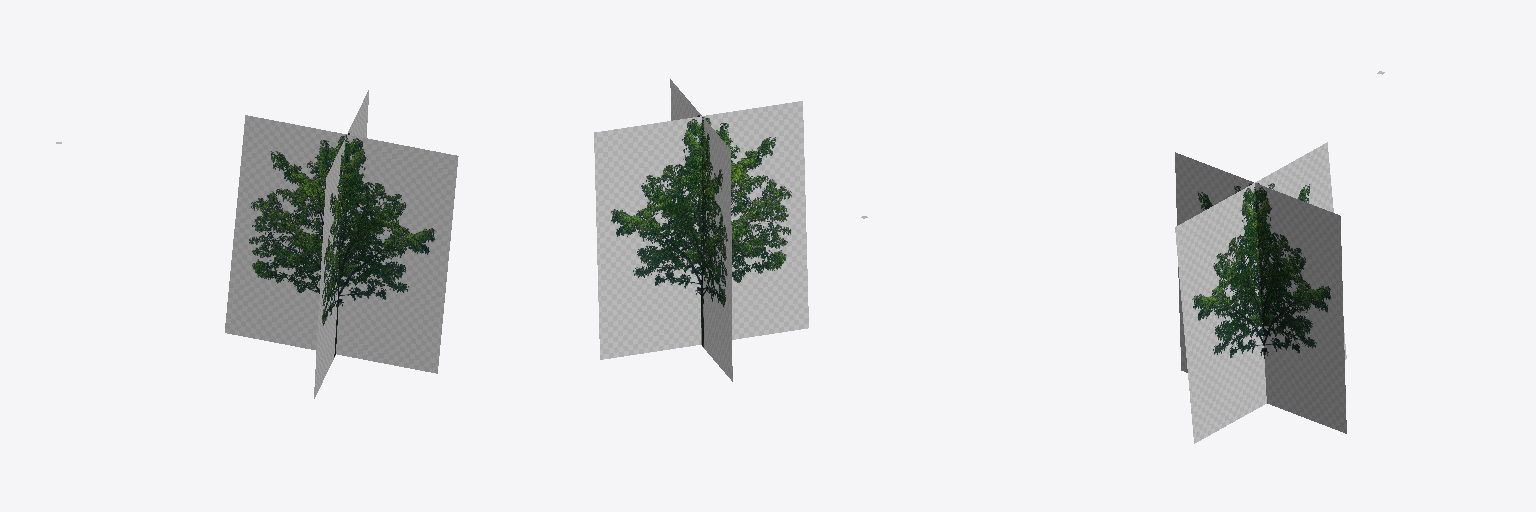
3 views of the same model, side by side, from view 1: azimuth 30°, elevation 25°; view 2: azimuth 150°, elevation 25°; view 3: azimuth 270°, elevation 25° (orthographic).
Parts seen in each view (by area): view 1: Plane.005, Plane.004; view 2: Plane.004, Plane.005; view 3: Plane.004, Plane.005.
Part boxes in pixels (x1,y1,x2,y2): Plane.005: (225,115,458,373); Plane.004: (314,90,368,398); Plane.004: (594,101,808,359); Plane.005: (670,79,732,381); Plane.004: (1175,152,1346,433); Plane.005: (1175,142,1346,443).
Size of the model in its own units: 115 by 88.03 by 69.68.
Materials: 2 (1 with a texture image).